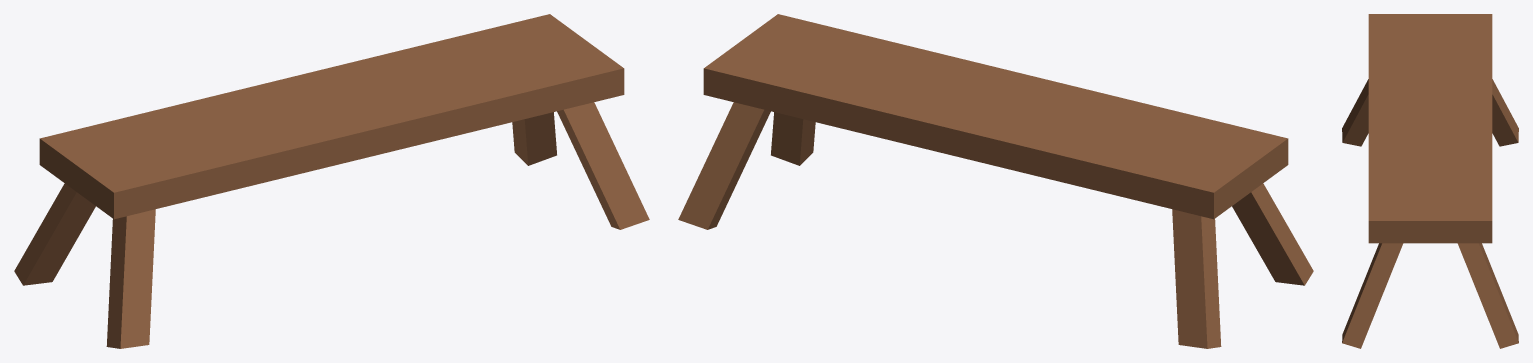
File: Chair_01.glb
3 views of the same model, side by side, from view 1: azimuth 30°, elevation 25°; view 2: azimuth 150°, elevation 25°; view 3: azimuth 270°, elevation 25° (orthographic). The views are drawn at different scales.
Visible parts, largest first — view 1: Chair_01; view 2: Chair_01; view 3: Chair_01.
Boxes of the visible parts, bbox=[...] form: Chair_01: bbox=[14, 14, 649, 348]; Chair_01: bbox=[678, 14, 1313, 348]; Chair_01: bbox=[1342, 14, 1518, 348].
Size of the model in its own units: 2.24 by 0.6048 by 0.7713.
